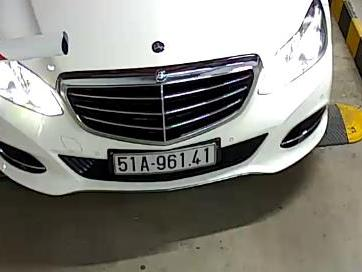car: (113, 143, 220, 177)
